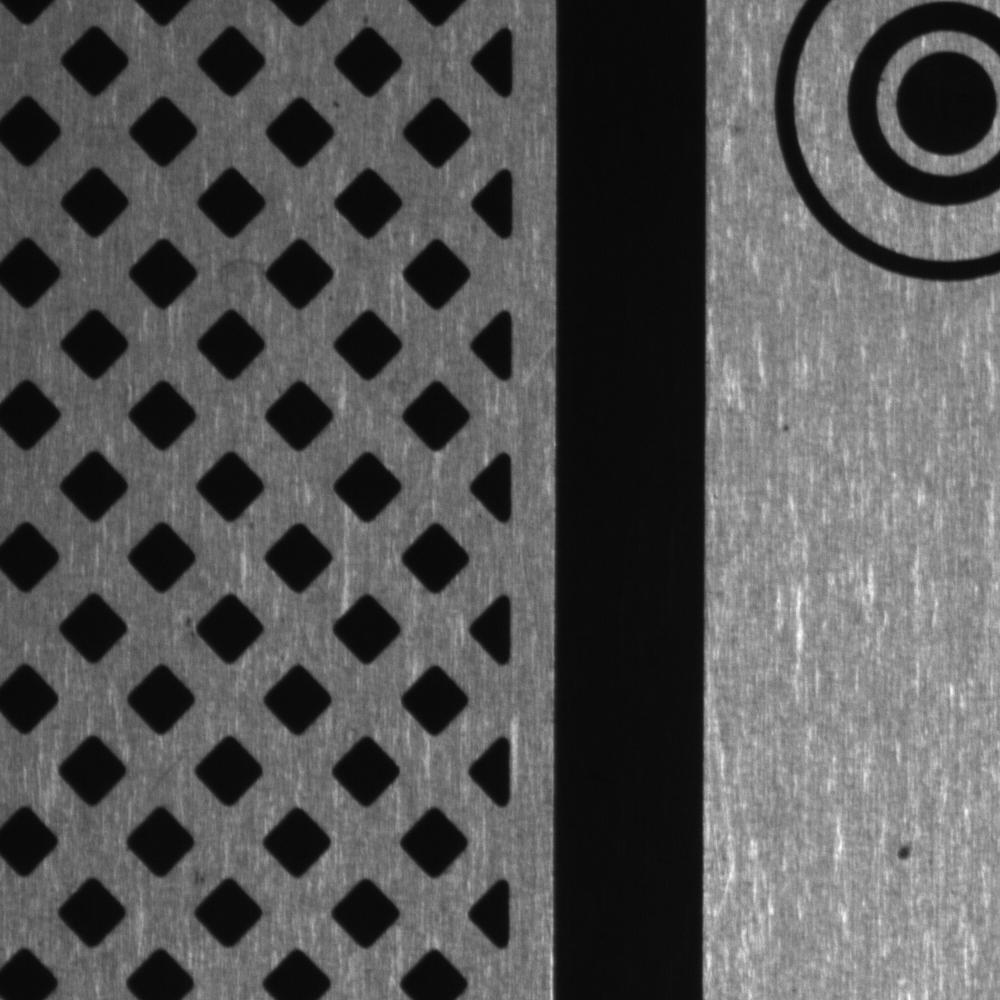Discolor: (206, 249, 278, 304)
Etching: (888, 819, 928, 883)
Pinhole: (772, 410, 799, 440)
Scar: (141, 735, 189, 806)
